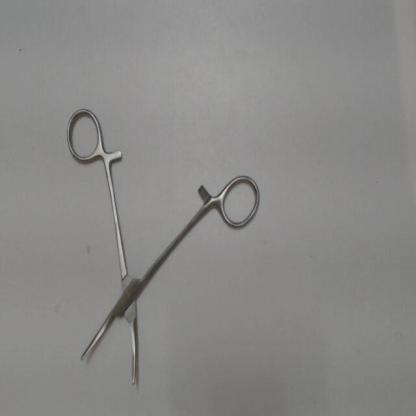Crile Artery Forceps: (61, 103, 264, 391)
